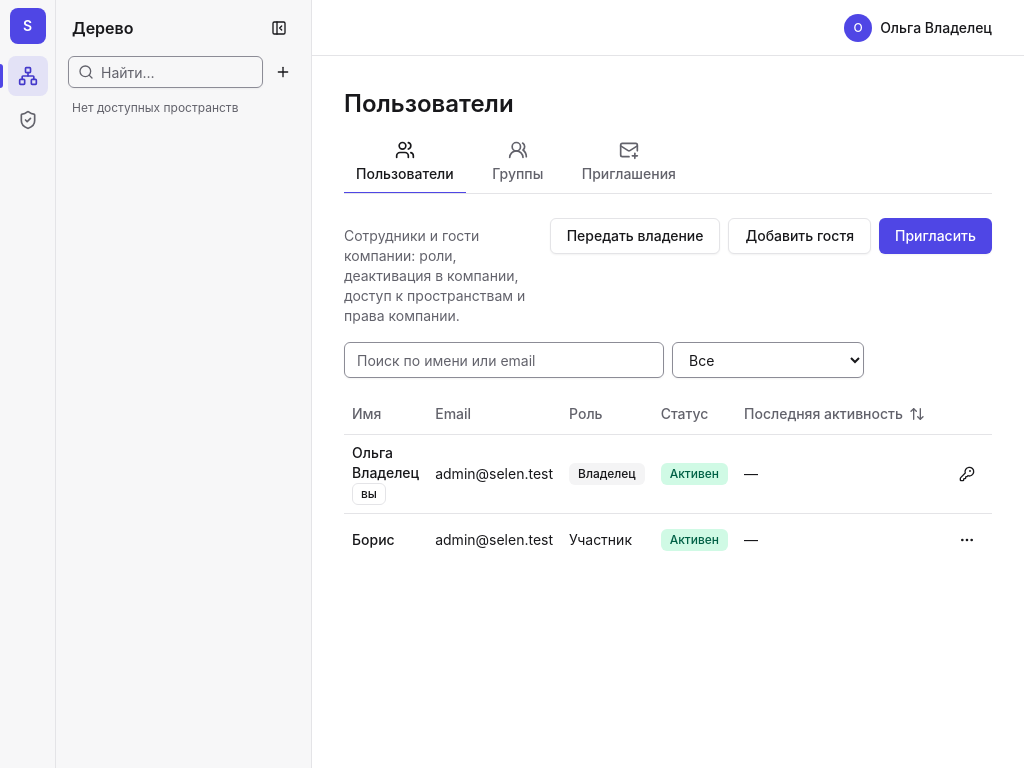
it: Режим «несколько компаний» (для сравнения) › у Владельца есть «Компании», в «Пользователях» — «Добавить гостя» и фильтр «Гости»
The image size is (1024, 768).
Check: the button "Добавить гостя" is shown, box [728, 218, 871, 254]
Click the button named "Администрирование": (28, 120) [8, 100, 48, 140]
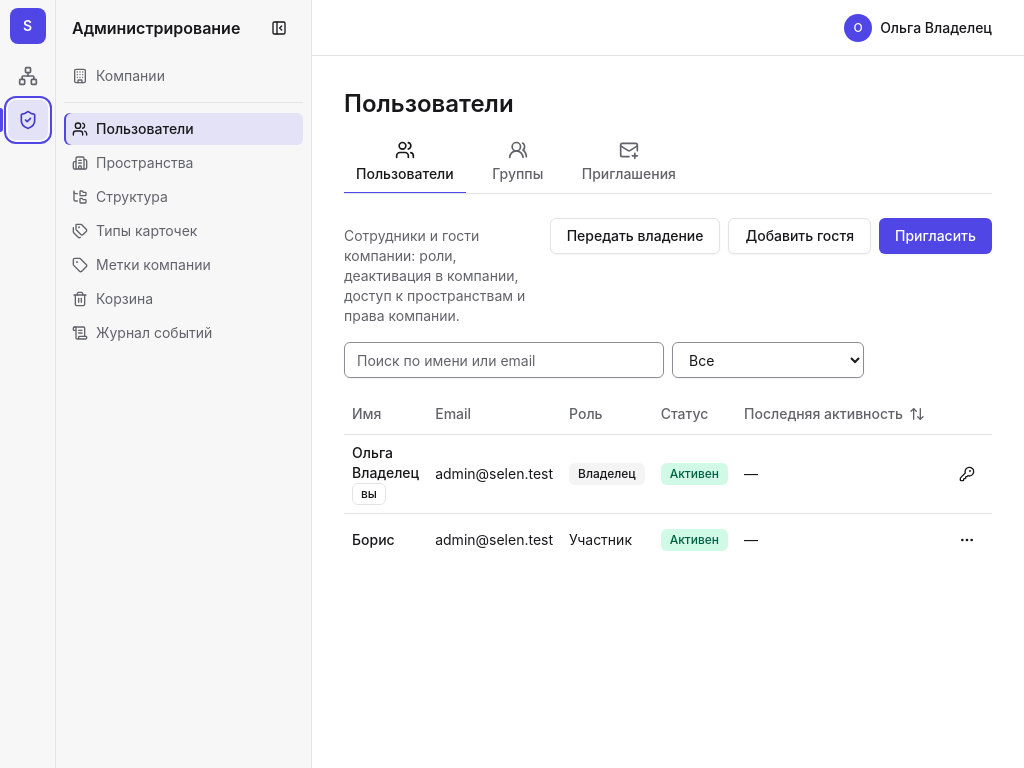
Check: the link "Компании" is shown, box [72, 67, 165, 84]
